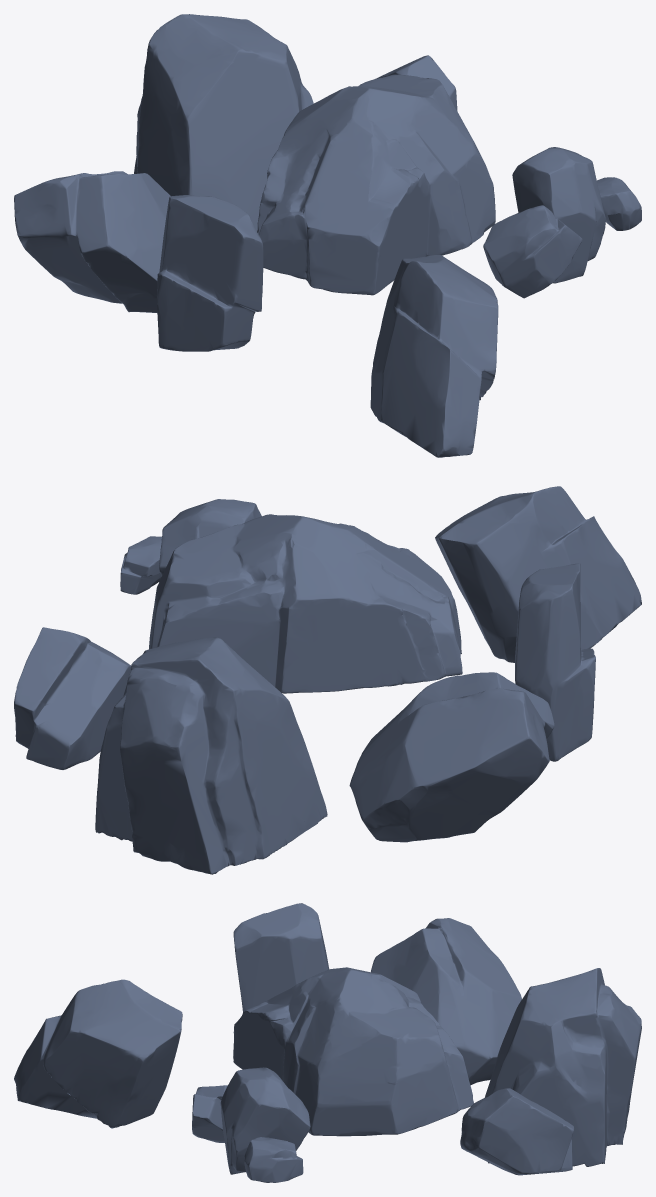
3 views of the same model, one above another, from view 1: azimuth 30°, elevation 25°; view 2: azimuth 150°, elevation 25°; view 3: azimuth 270°, elevation 25° (orthographic). The views are drawn at different scales.
Parts seen in each view (by area): view 1: SM_GF_Cliff_Bottom_03_LOD0; view 2: SM_GF_Cliff_Bottom_03_LOD0; view 3: SM_GF_Cliff_Bottom_03_LOD0.
Part boxes in pixels (<box>): SM_GF_Cliff_Bottom_03_LOD0: <box>14,14,641,457</box>; SM_GF_Cliff_Bottom_03_LOD0: <box>14,486,641,874</box>; SM_GF_Cliff_Bottom_03_LOD0: <box>14,903,641,1182</box>.
Bounding box in the file's own units: 15.47 × 6.02 × 19.32.
